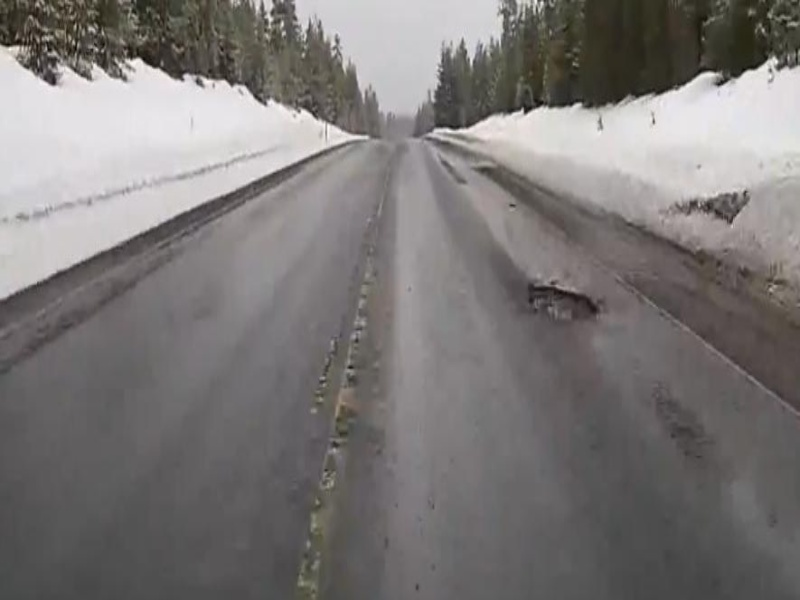pothole: (523, 279, 604, 329)
